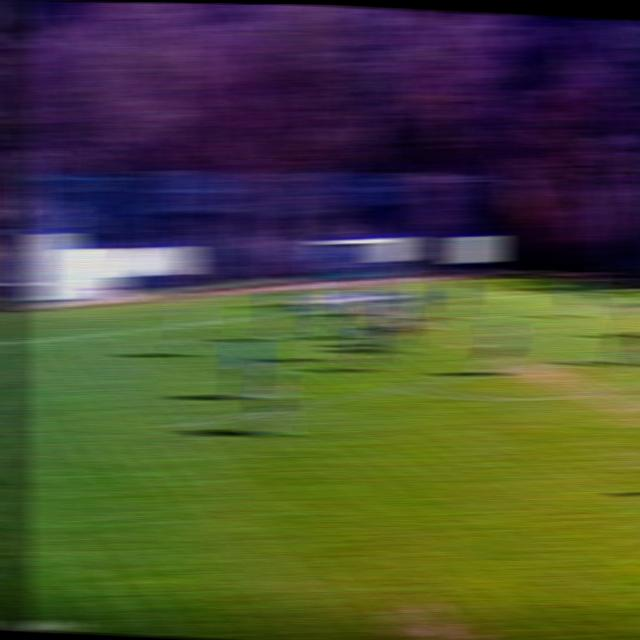bigarea_bottom_inner: (164, 412, 194, 441)
bigarea_bottom_outter: (63, 321, 97, 350)
bottom_arc_area_intersection: (392, 377, 422, 398)
corner: (617, 281, 640, 295)
smallarea_bottom_inner: (280, 328, 308, 346)
smallarea_bottom_outter: (242, 308, 268, 324)
